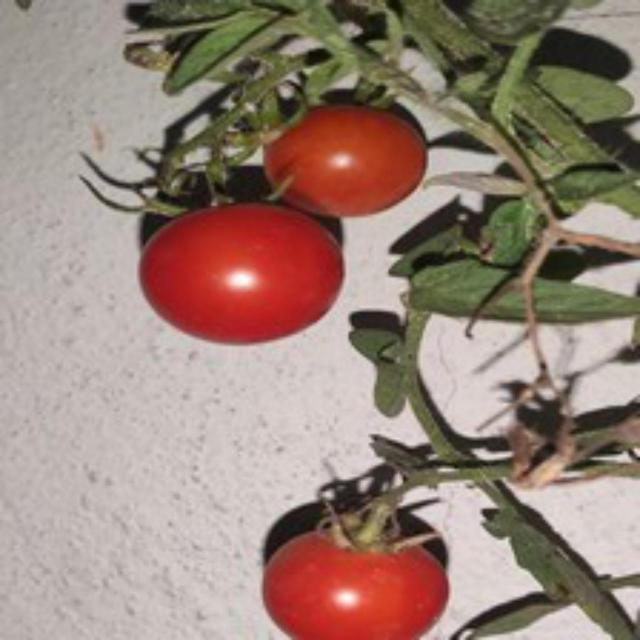tomato: (136, 199, 356, 346), (251, 511, 451, 637), (272, 91, 436, 219)
